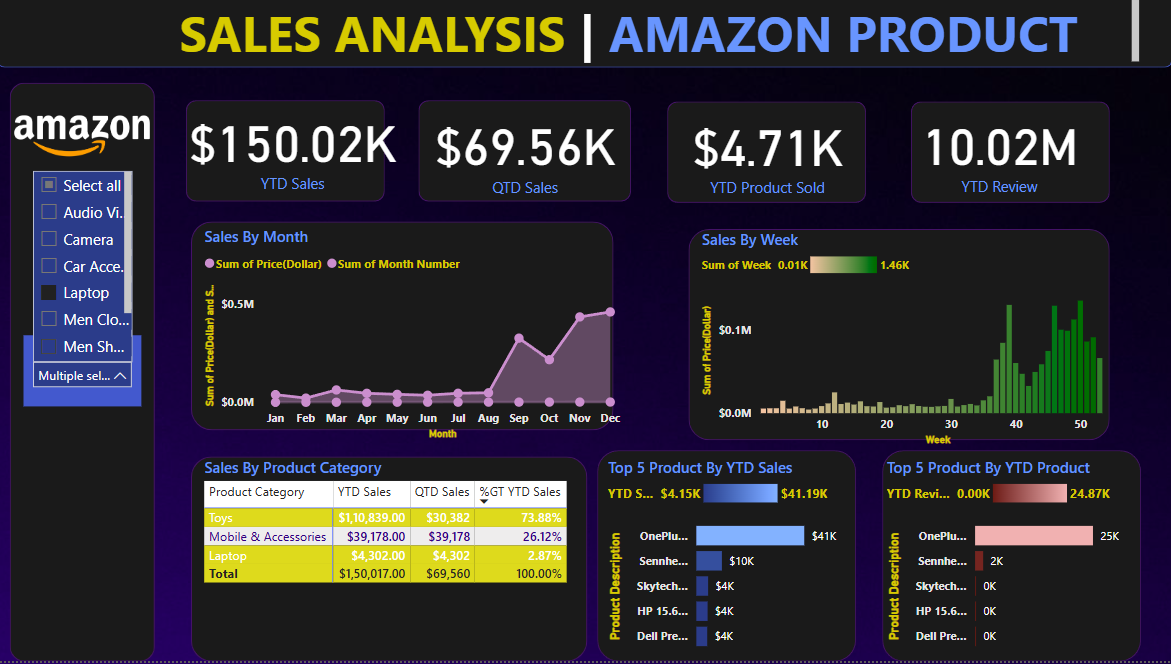

This screenshot's page, from the dashboard's own definition file:
{"tool":"powerbi","page":{"name":"Page 1","canvas":[1280,720],"ordinal":0},"visuals":[{"type":"shape","box":[12.1,0,1268.1,79.6],"z":0},{"type":"textbox","box":[203.7,0,1045.5,79.6],"z":1000},{"type":"shape","box":[25.6,95.8,156.5,624.6],"z":2000},{"type":"shape","box":[215.9,114.7,214.5,109.3],"z":3000},{"type":"shape","box":[466.8,114.7,229.3,109.3],"z":4000},{"type":"shape","box":[735.2,116,214.5,109.3],"z":5000},{"type":"shape","box":[998.3,116,214.5,109.3],"z":6000},{"type":"card","fields":{"Values":["Amazon_Data.QTD Sales"]},"box":[462.7,116,238.8,107.9],"z":7000},{"type":"card","fields":{"Values":["Amazon_Data.YTD Sales"]},"box":[199.7,110.6,263.1,110.6],"z":8000},{"type":"card","fields":{"Values":["Amazon_Data.YTD Review"]},"box":[975.4,117.4,237.4,103.9],"z":9000},{"type":"shape","box":[221.2,245.5,456,225.3],"z":10000},{"type":"card","fields":{"Values":["Amazon_Data.YTD Product Sold"]},"box":[681.3,95.8,325.1,149.7],"z":11000},{"type":"areaChart","title":" Sales By Month","fields":{"Category":["Date Table.Month"],"Y":["Sum(Amazon_Data.Price(Dollar))","Sum(Date Table.Month Number)"]},"box":[230.7,249.6,461.4,236.1],"z":12000},{"type":"shape","box":[758.2,253.6,454.6,228],"z":13000},{"type":"image","box":[25.6,117.4,156.5,71.5],"z":14000},{"type":"columnChart","title":" Sales By Week","fields":{"Category":["Date Table.Week"],"Y":["Sum(Amazon_Data.Price(Dollar))"]},"box":[767.6,253.6,461.4,238.8],"z":15000},{"type":"shape","box":[221.2,499.2,427.7,221.2],"z":16000},{"type":"pivotTable","title":"Sales By Product Category","fields":{"Rows":["Amazon_Data.Product Category"],"Values":["Amazon_Data.YTD Sales1","Amazon_Data.QTD Sales","Divide(Amazon_Data.YTD Sales, ScopedEval(Amazon_Data.YTD Sales, []))"]},"box":[230.7,499.2,418.2,221.2],"z":17000},{"type":"shape","box":[967.3,492.4,279.3,228],"z":18000},{"type":"clusteredBarChart","title":" Top 5 Product By YTD Product","fields":{"Category":["Amazon_Data.Product Description"],"Y":["Amazon_Data.YTD Review"]},"box":[967.3,499.2,272.5,221.2],"z":19000},{"type":"shape","box":[659.7,492.4,279.3,228],"z":20000},{"type":"clusteredBarChart","title":" Top 5 Product By YTD Sales","fields":{"Category":["Amazon_Data.Product Description"],"Y":["Amazon_Data.YTD Sales"]},"box":[666.4,499.2,272.5,221.2],"z":21000},{"type":"slicer","fields":{"Values":["Amazon_Data.Product Category"]},"box":[40.5,368.3,126.8,76.9],"z":22000}]}

Visuals, with their boxes in screenshot pixels (x1, y1, x2, y2), scaled from the page's 1280x720 canvas onto the 1171x664 screenshot:
shape: [x1=11, y1=0, x2=1170, y2=73]
textbox: [x1=186, y1=0, x2=1143, y2=73]
shape: [x1=23, y1=88, x2=167, y2=663]
shape: [x1=198, y1=106, x2=394, y2=207]
shape: [x1=427, y1=106, x2=637, y2=207]
shape: [x1=673, y1=107, x2=869, y2=208]
shape: [x1=913, y1=107, x2=1110, y2=208]
card - Amazon_Data.QTD Sales: [x1=423, y1=107, x2=642, y2=206]
card - Amazon_Data.YTD Sales: [x1=183, y1=102, x2=423, y2=204]
card - Amazon_Data.YTD Review: [x1=892, y1=108, x2=1110, y2=204]
shape: [x1=202, y1=226, x2=620, y2=434]
card - Amazon_Data.YTD Product Sold: [x1=623, y1=88, x2=921, y2=226]
" Sales By Month" areaChart: [x1=211, y1=230, x2=633, y2=448]
shape: [x1=694, y1=234, x2=1110, y2=444]
image: [x1=23, y1=108, x2=167, y2=174]
" Sales By Week" columnChart: [x1=702, y1=234, x2=1124, y2=454]
shape: [x1=202, y1=460, x2=594, y2=663]
"Sales By Product Category" pivotTable: [x1=211, y1=460, x2=594, y2=663]
shape: [x1=885, y1=454, x2=1140, y2=663]
" Top 5 Product By YTD Product" clusteredBarChart: [x1=885, y1=460, x2=1134, y2=663]
shape: [x1=604, y1=454, x2=859, y2=663]
" Top 5 Product By YTD Sales" clusteredBarChart: [x1=610, y1=460, x2=859, y2=663]
slicer - Amazon_Data.Product Category: [x1=37, y1=340, x2=153, y2=411]
